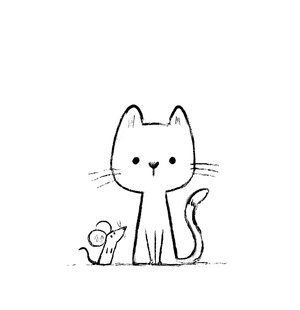cat: (97, 83, 220, 275)
